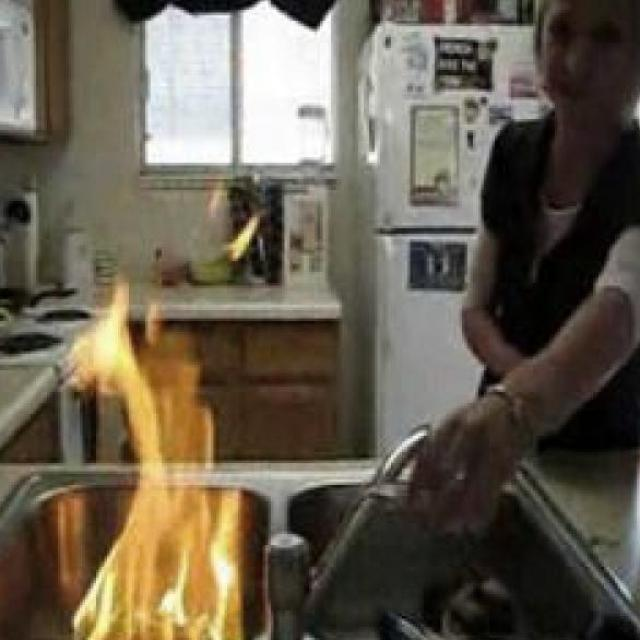Fire: (56, 303, 256, 640), (204, 192, 258, 261)
